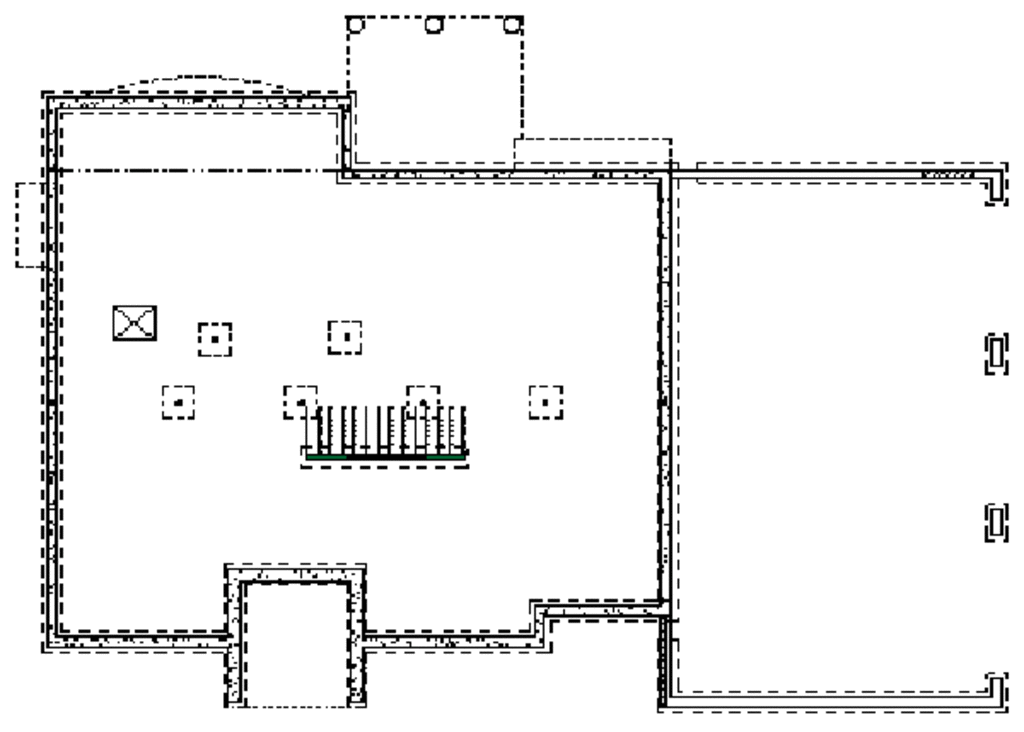stairs: (298, 401, 474, 466)
